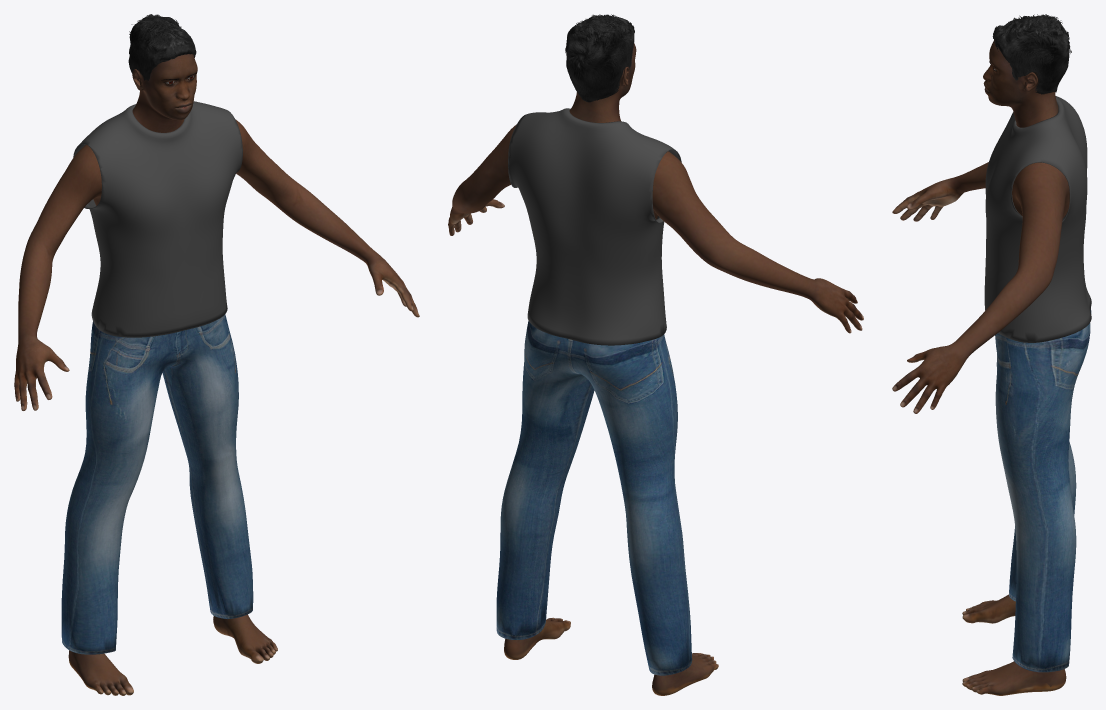
Rendered from male-dark-jeans-sleeveless.glb.
The picture shows the model from 3 angles, left to right: view 1: azimuth 30°, elevation 25°; view 2: azimuth 150°, elevation 25°; view 3: azimuth 270°, elevation 25°; orthographic projection. The views are drawn at different scales.
Parts seen in each view (by area): view 1: Jeans, SleevelessShirt, Body, Hair; view 2: Jeans, SleevelessShirt, Body, Hair; view 3: Jeans, Body, SleevelessShirt, Hair.
Part boxes in pixels (x1,y1,x2,y2): Jeans: (61, 314, 253, 654); SleevelessShirt: (73, 101, 242, 337); Body: (14, 54, 419, 695); Hair: (128, 14, 196, 80); Jeans: (496, 321, 692, 675); SleevelessShirt: (508, 108, 681, 345); Body: (448, 43, 863, 695); Hair: (565, 14, 634, 102); Jeans: (995, 308, 1091, 672); Body: (892, 40, 1069, 695); SleevelessShirt: (984, 96, 1091, 342); Hair: (992, 14, 1071, 94).
Size of the model in its own units: 1.21 by 1.86 by 0.527.
Materials: 8 (7 with a texture image).
